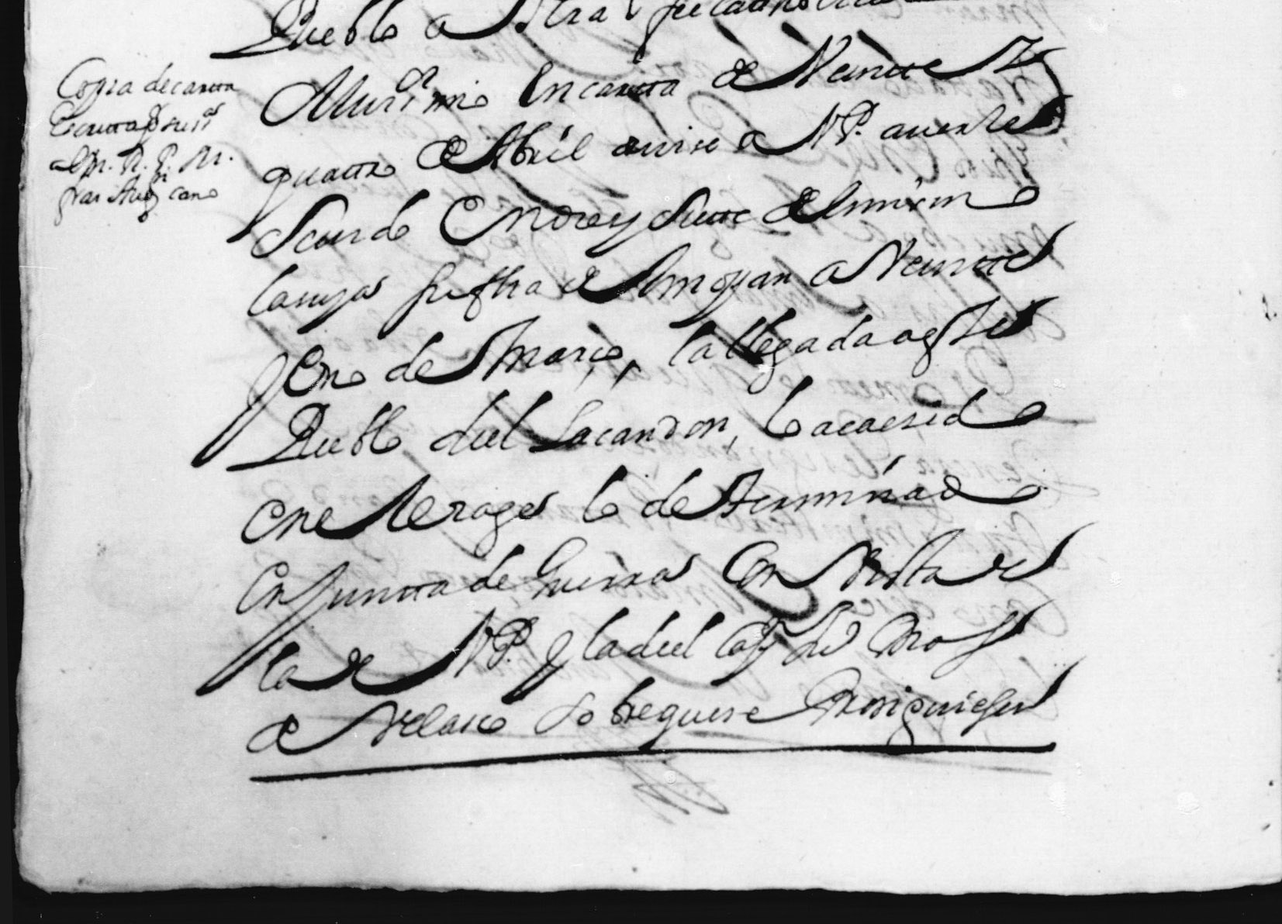lacandon: (528, 399, 728, 453)
